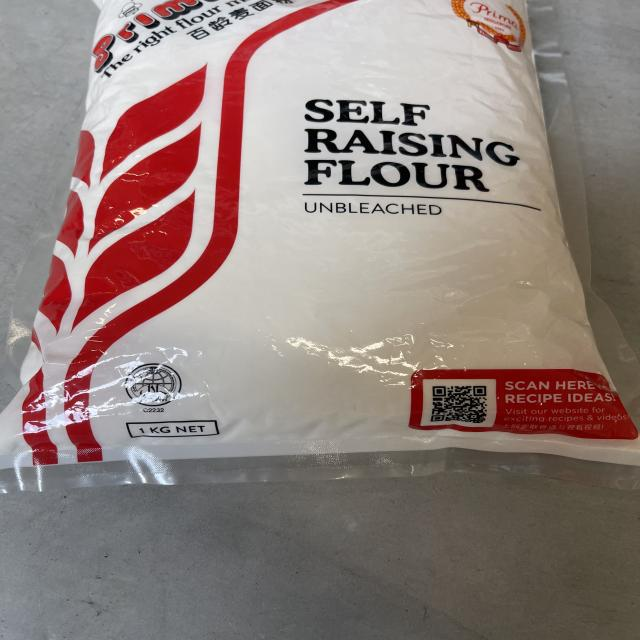object_name: (51, 4, 617, 464)
